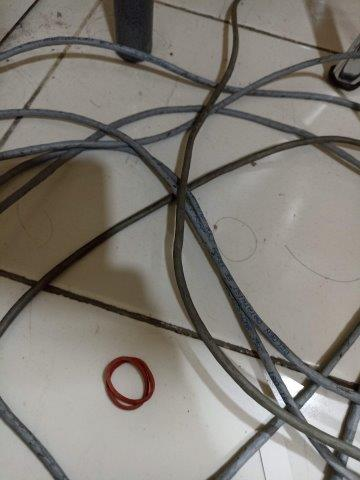karet: (102, 355, 156, 412)
